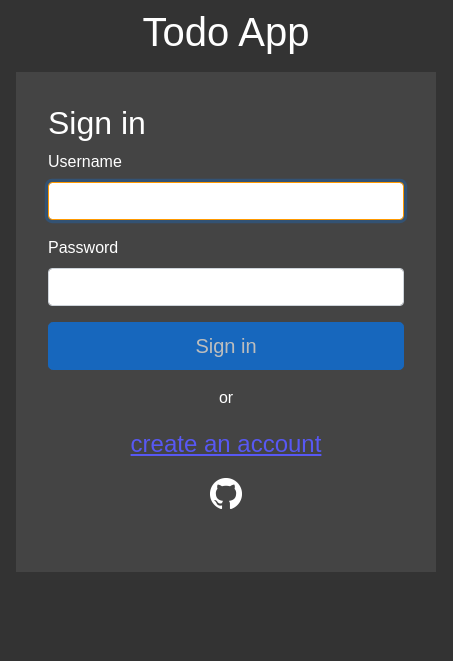
Todo app › create new account page can be opened
Step 1. Click the text "create an account" → {"x": 227, "y": 444}, box [131,430,322,457]
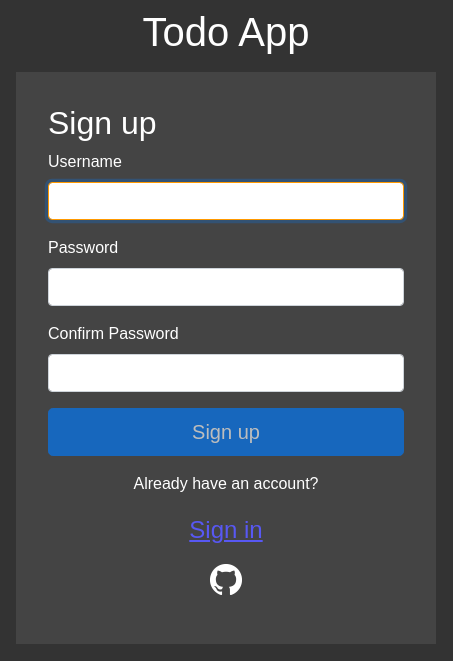
Result: the heading "Sign up" is shown at [48,105,156,141]
